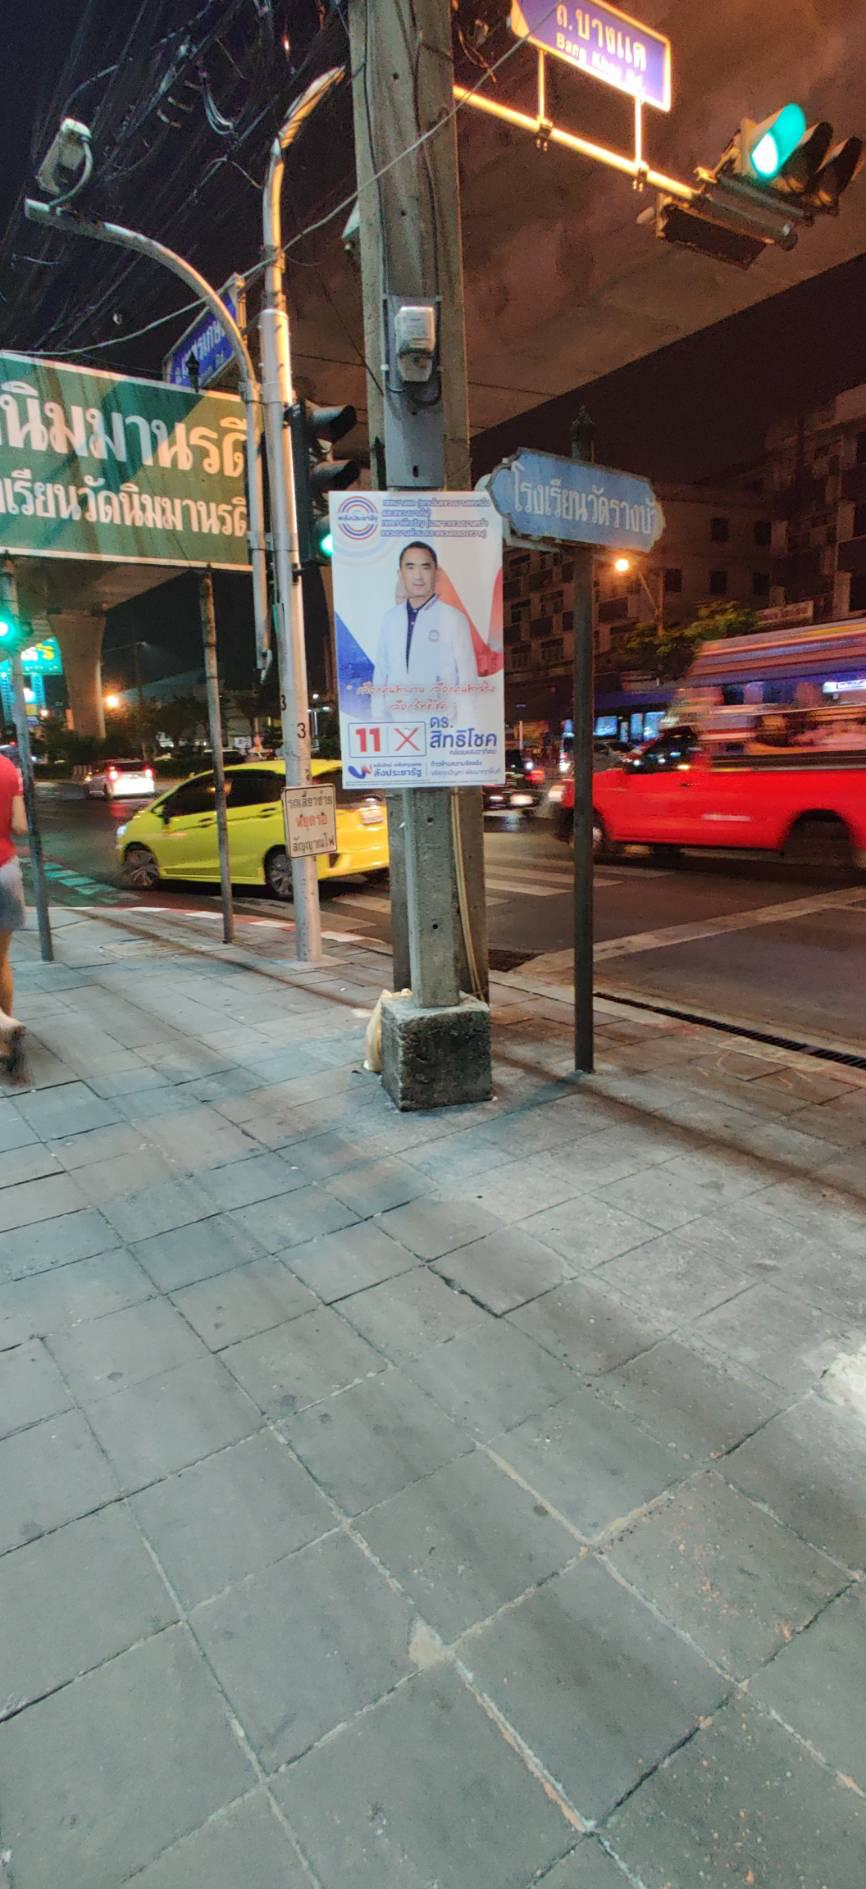Banner: (324, 488, 513, 792)
